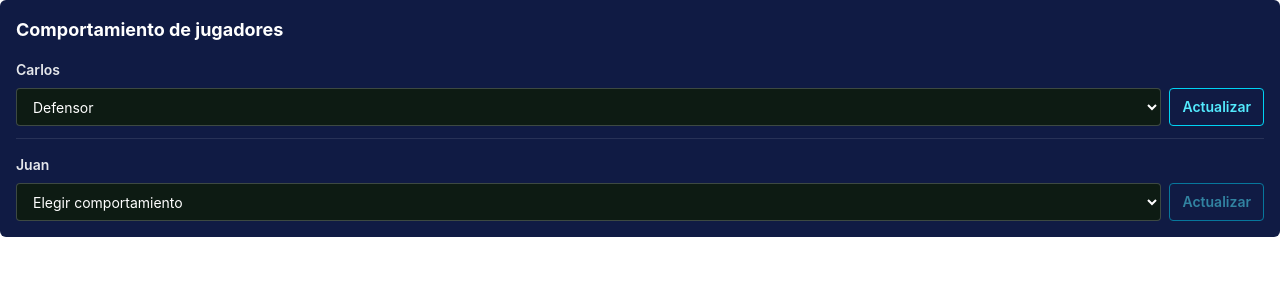
Scenario: ComportamientosEnCancha › permite actualizar el comportamiento de cada jugador
Select "Atacante" in the dropdown named "Comportamiento de Juan" at (589, 202), box x1=16 y1=183 x2=1162 y2=221
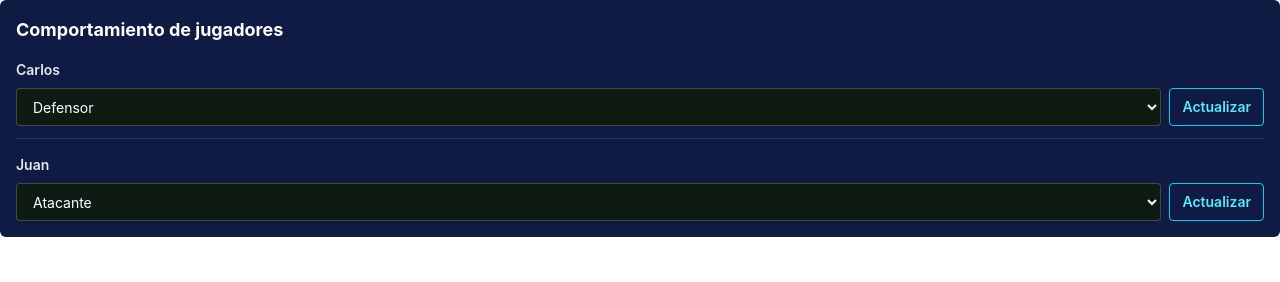
Click the 2nd button "Actualizar" at (1217, 202), box x1=1170 y1=183 x2=1264 y2=221
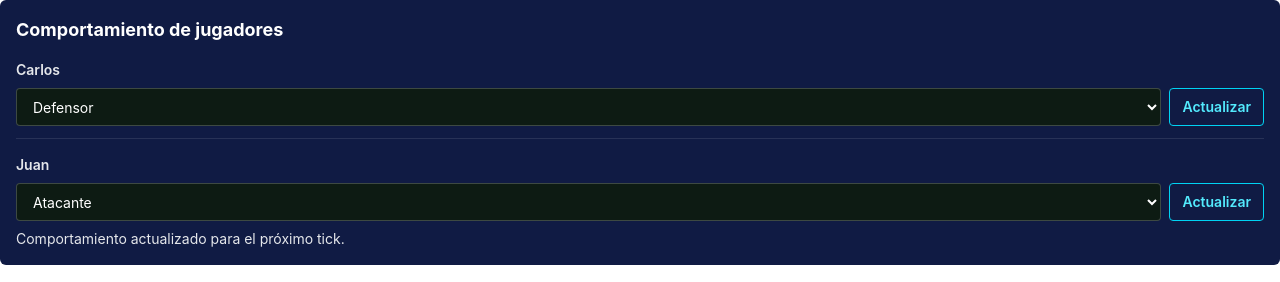
Expected: the message reads "Comportamiento actualizado para el próximo tick.", x1=16 y1=230 x2=345 y2=247
